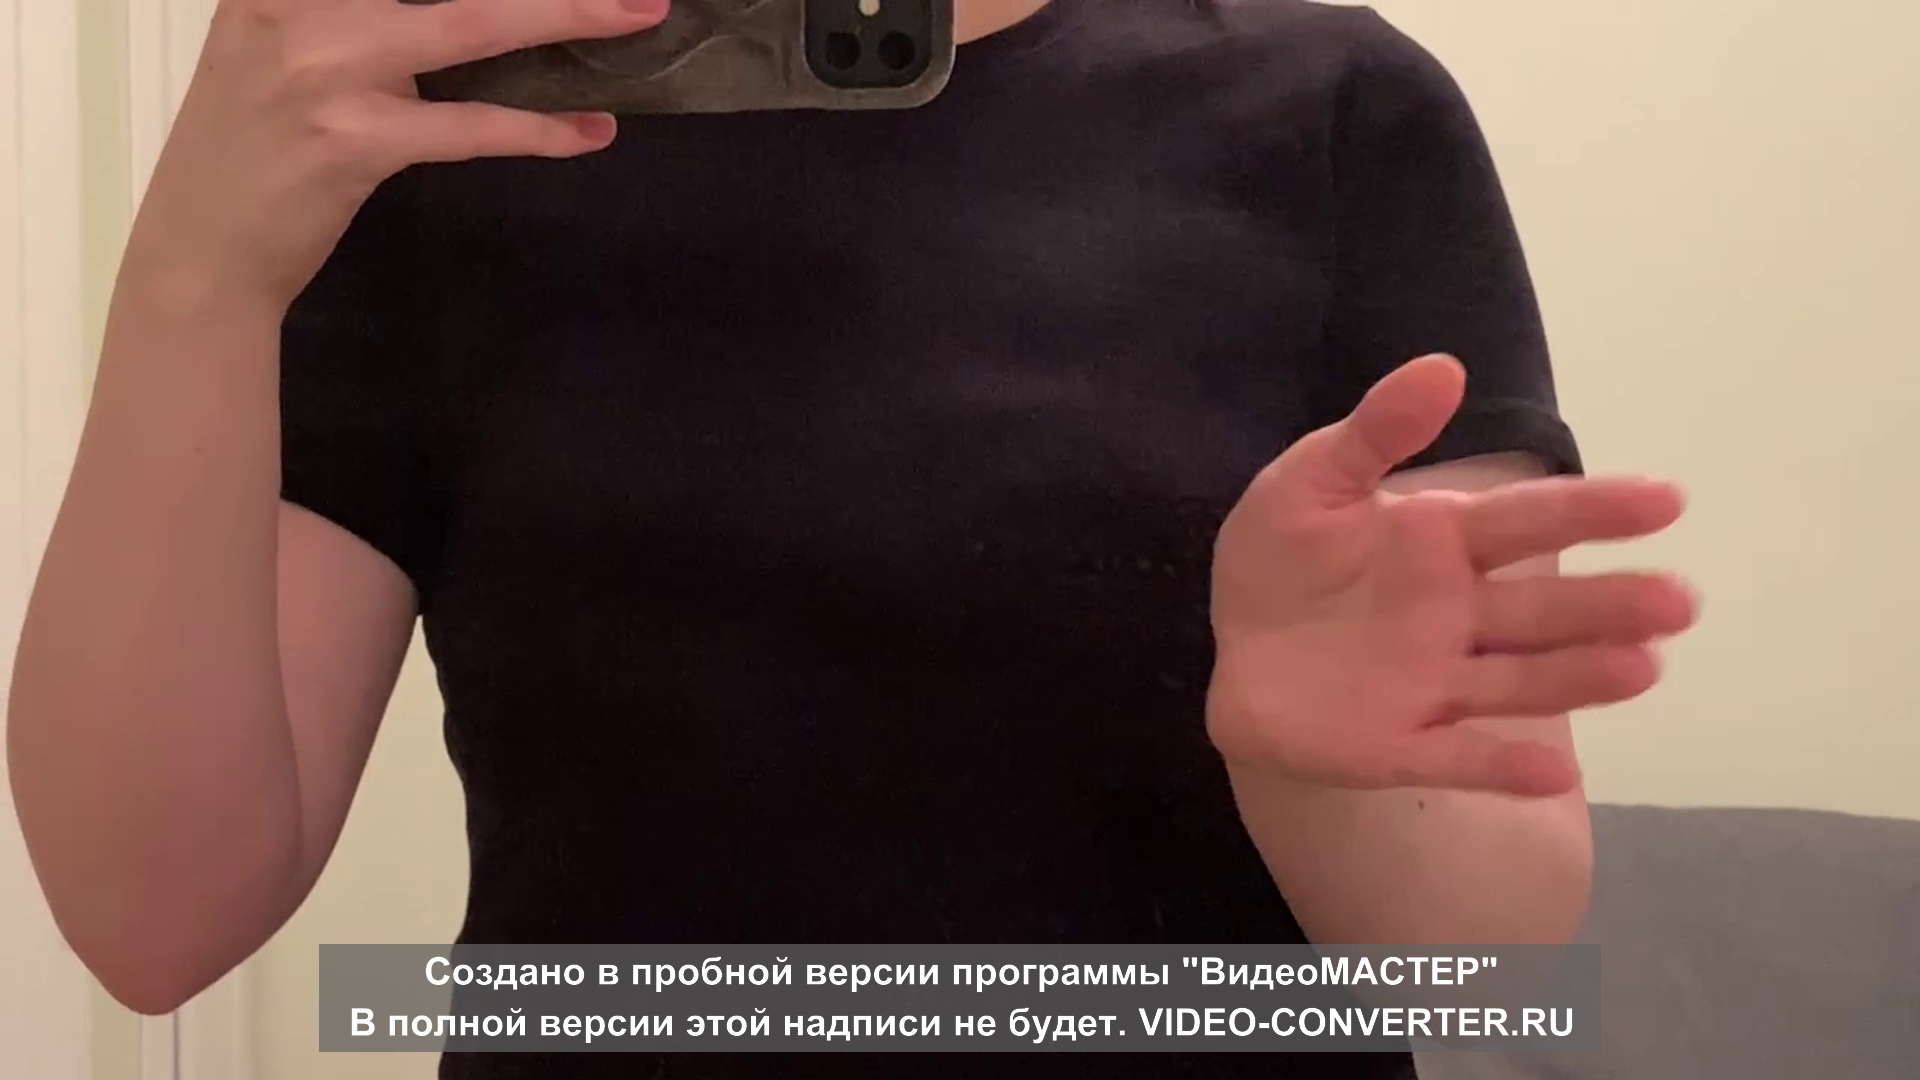Ладонь: (1204, 352, 1702, 800)
